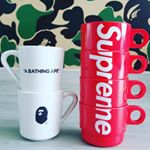cups: (12, 89, 79, 142), (77, 101, 148, 148), (1, 44, 68, 91)
